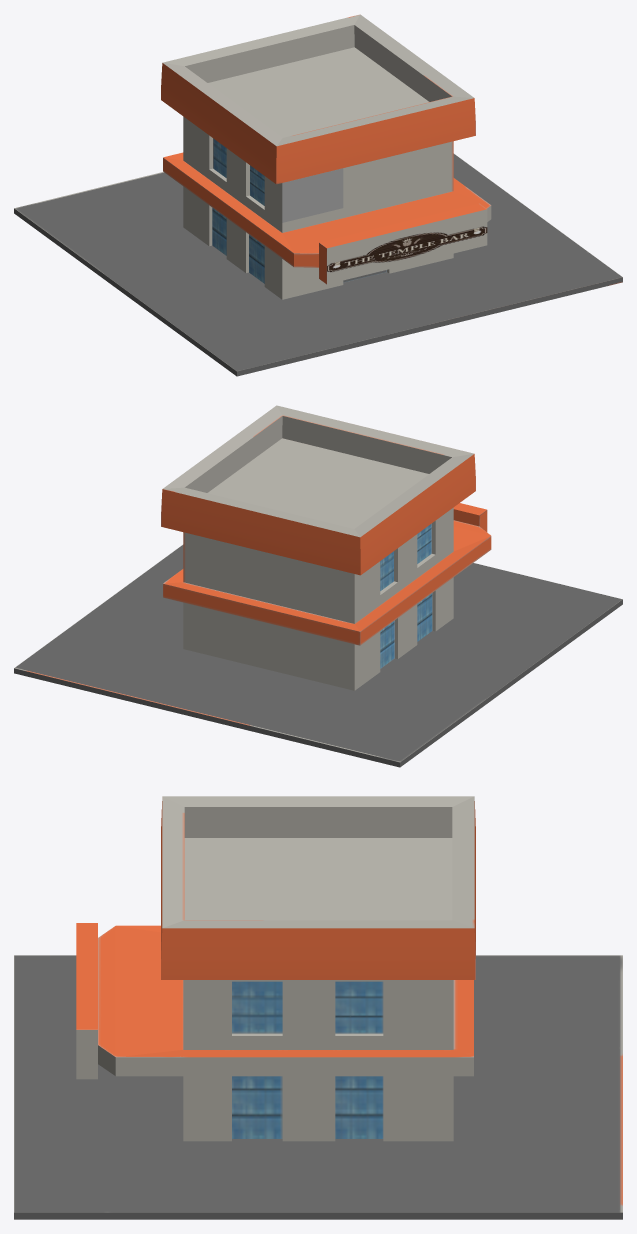
Rendered from Bar_with_texture.fbx.
3 renders of one model, top to bottom at view 1: azimuth 30°, elevation 25°; view 2: azimuth 150°, elevation 25°; view 3: azimuth 270°, elevation 25°, orthographic. The views are drawn at different scales.
Parts seen in each view (by area): view 1: pCube1; view 2: pCube1; view 3: pCube1.
Boxes of the visible parts, box(x1,y1,x2,y2) form: pCube1: box(14, 14, 622, 376); pCube1: box(14, 405, 622, 767); pCube1: box(14, 796, 622, 1219).
Size of the model in its own units: 2248 by 1024 by 2248.
